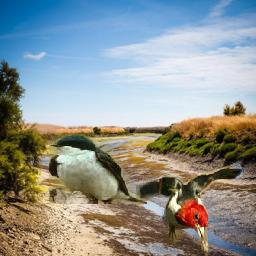Swallow: (49, 134, 147, 204)
Woodpecker: (136, 159, 248, 255)
